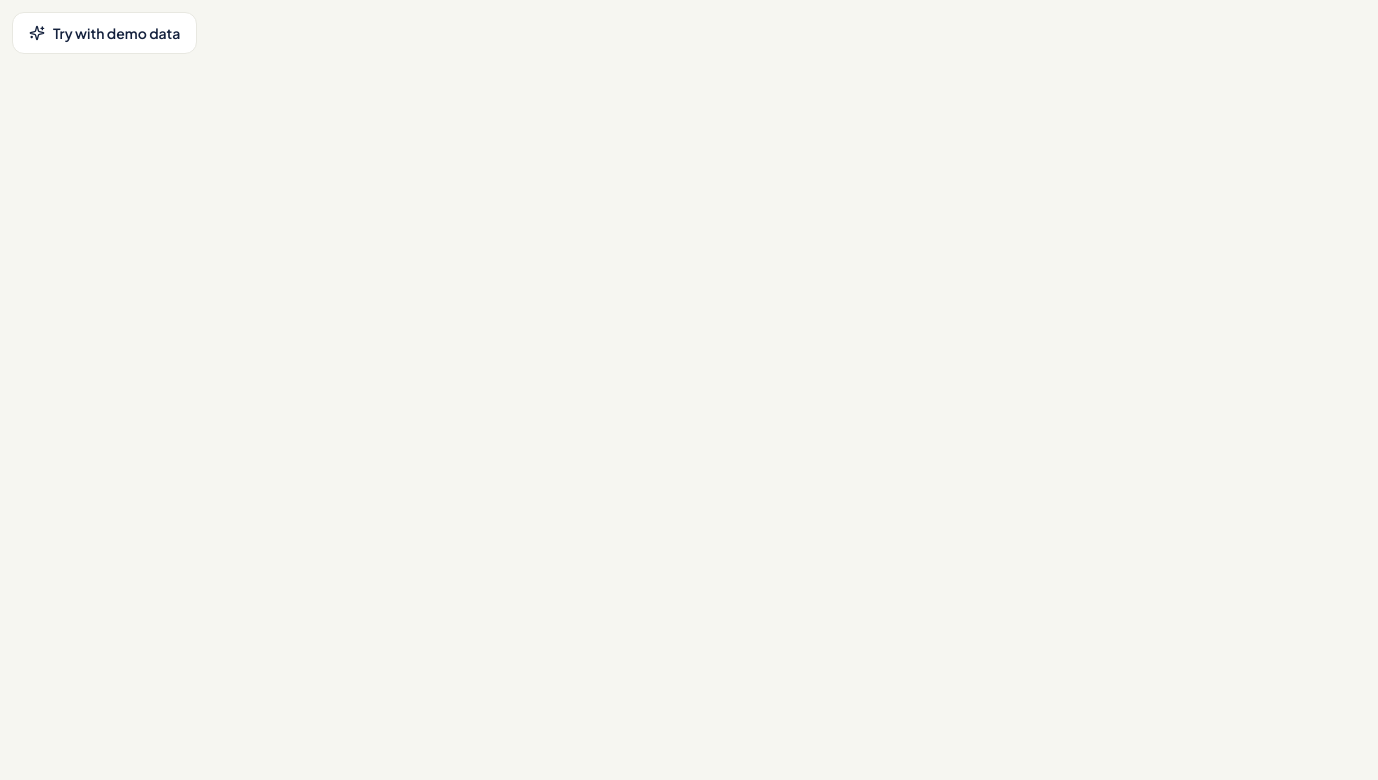
Scenario: DemoDataButton › loads the demo, says how much, and refreshes the app
Click the button "Try with demo data": (105, 33) 12,12 -> 197,54
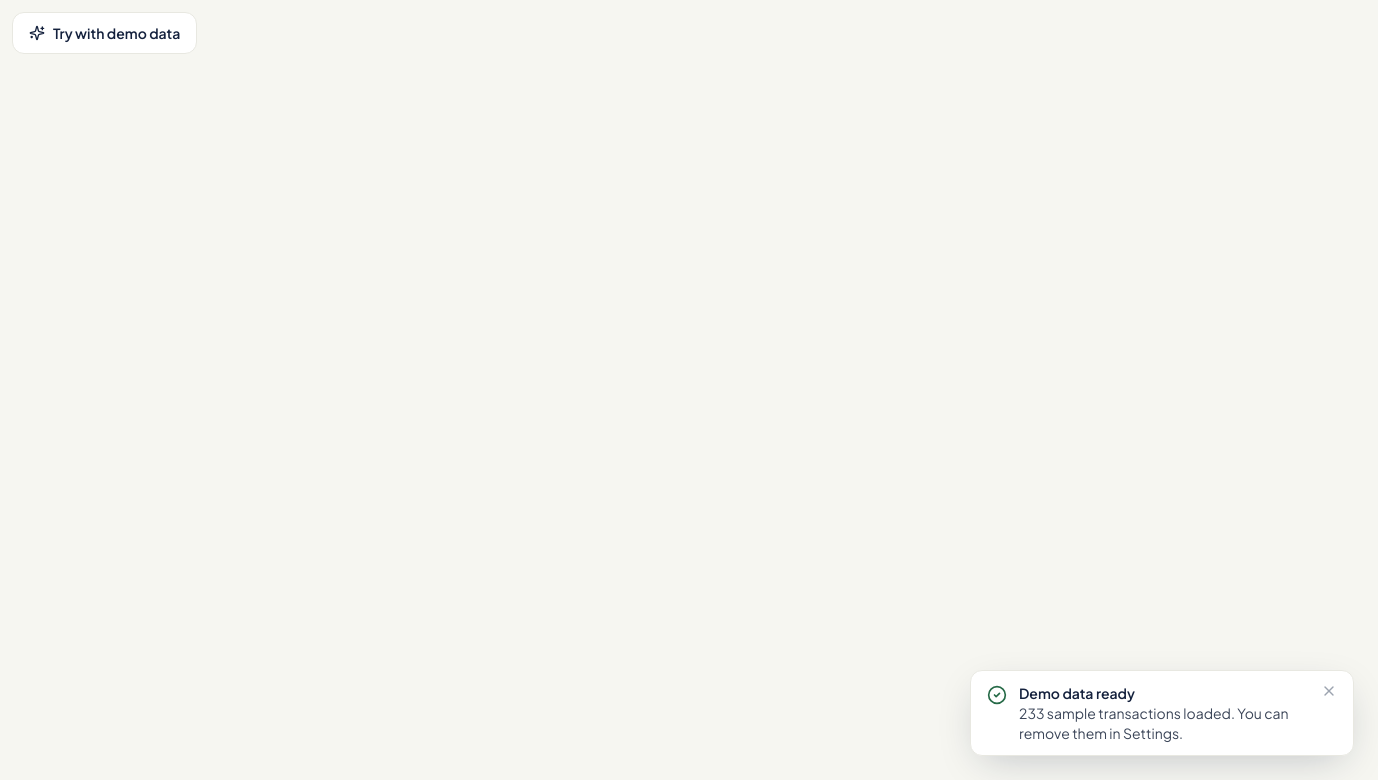
Expected: the text "233 sample transactions loaded" is shown, 1019,704 -> 1288,742
